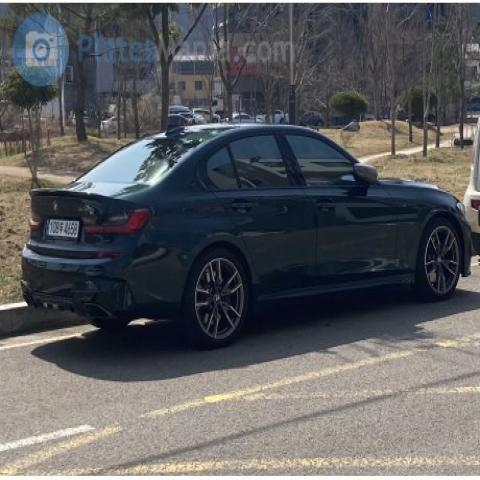LP: (42, 211, 88, 248)
